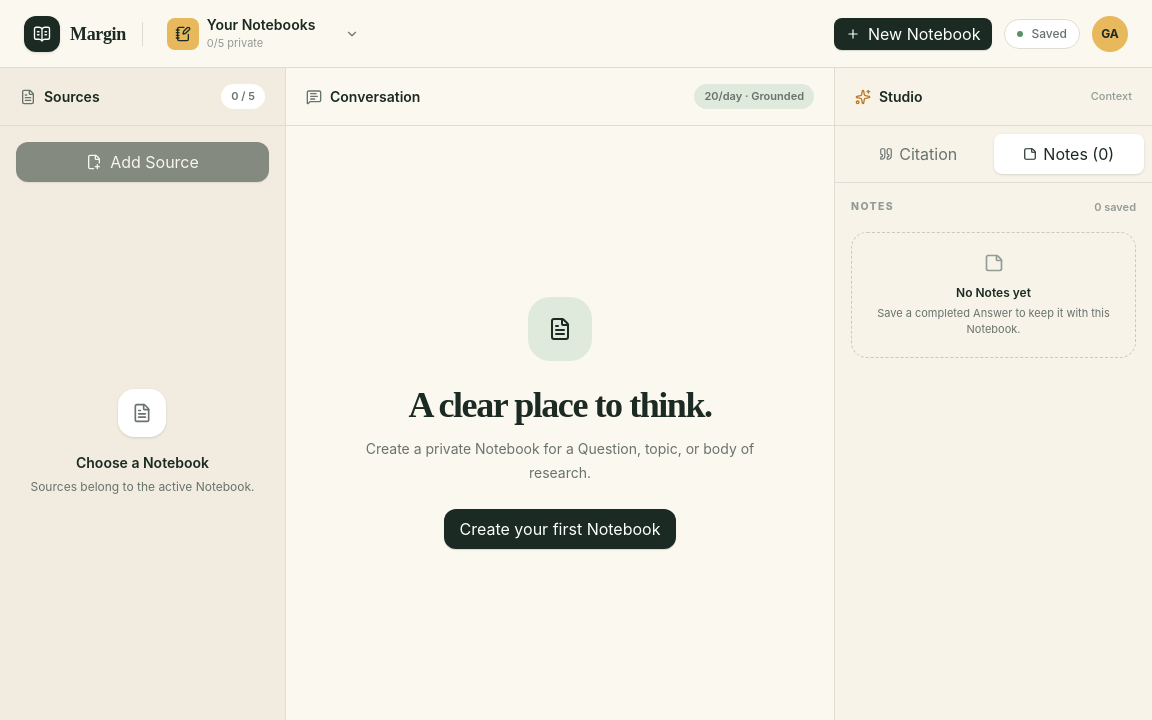
Scenario: Notebook workspace › keeps the create dialog open when persistence fails
This screenshot has width=1152, height=720.
Step 1. Click the button "Create your first Notebook" → {"x": 560, "y": 529}, box [444, 509, 676, 549]
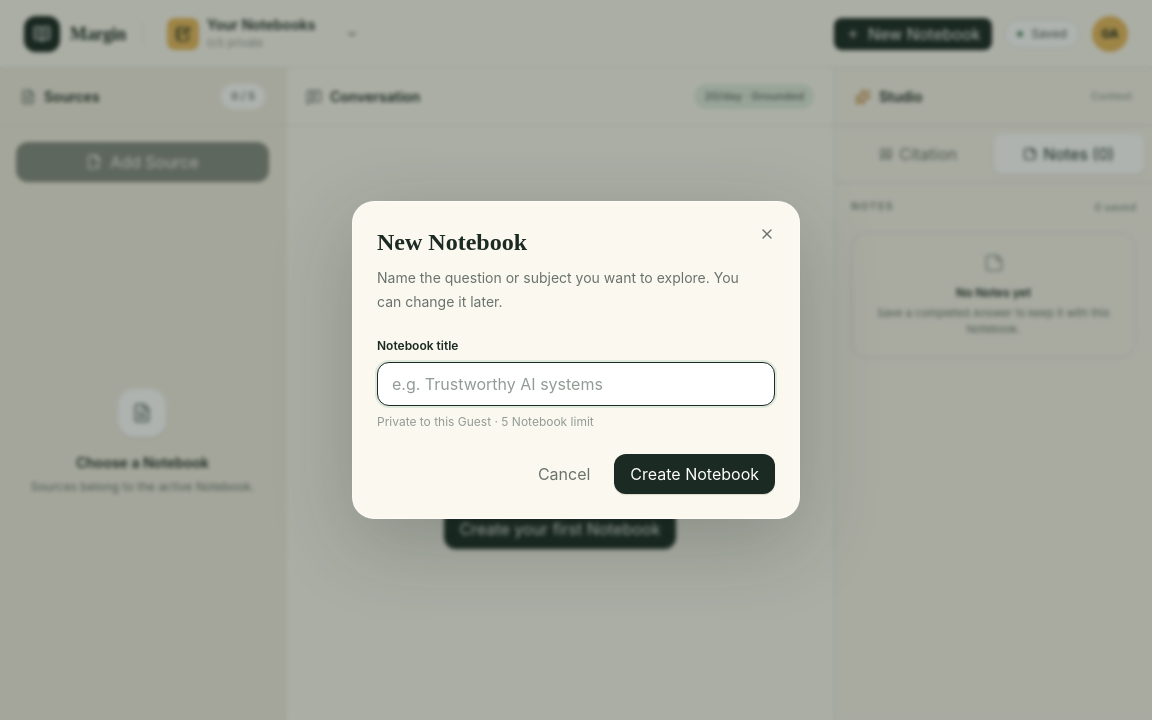
Step 2. Type "Research" into the field labelled "Notebook title" → {"x": 576, "y": 384}, box [377, 362, 775, 406]
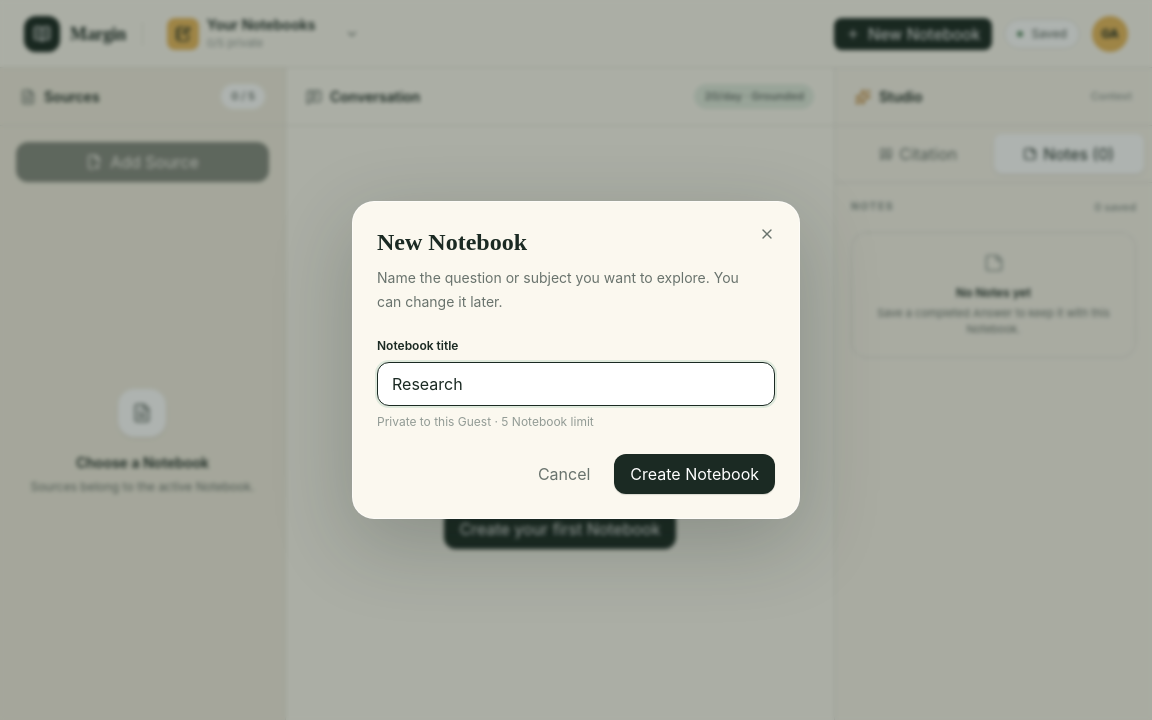
Step 3. Click the button "Create Notebook" → {"x": 695, "y": 474}, box [614, 454, 775, 494]
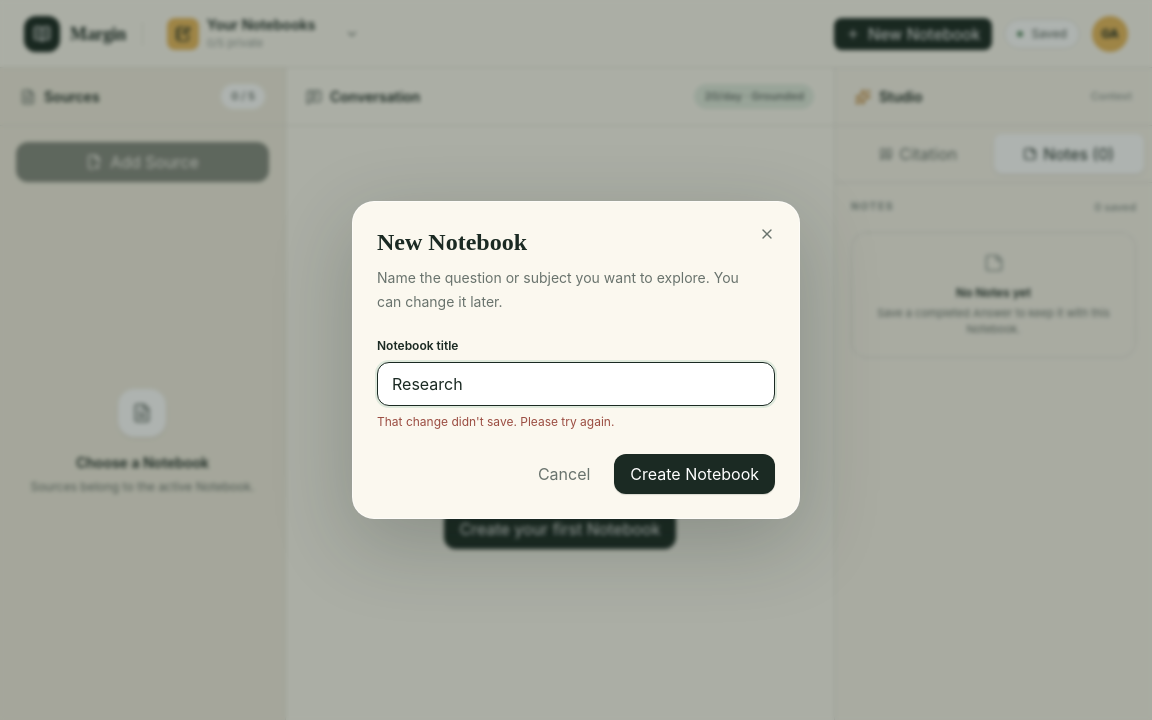
Result: the dialog is shown at [352, 201, 800, 519]
Result: the text "That change didn't save. Please try again." is shown at [377, 414, 614, 429]
